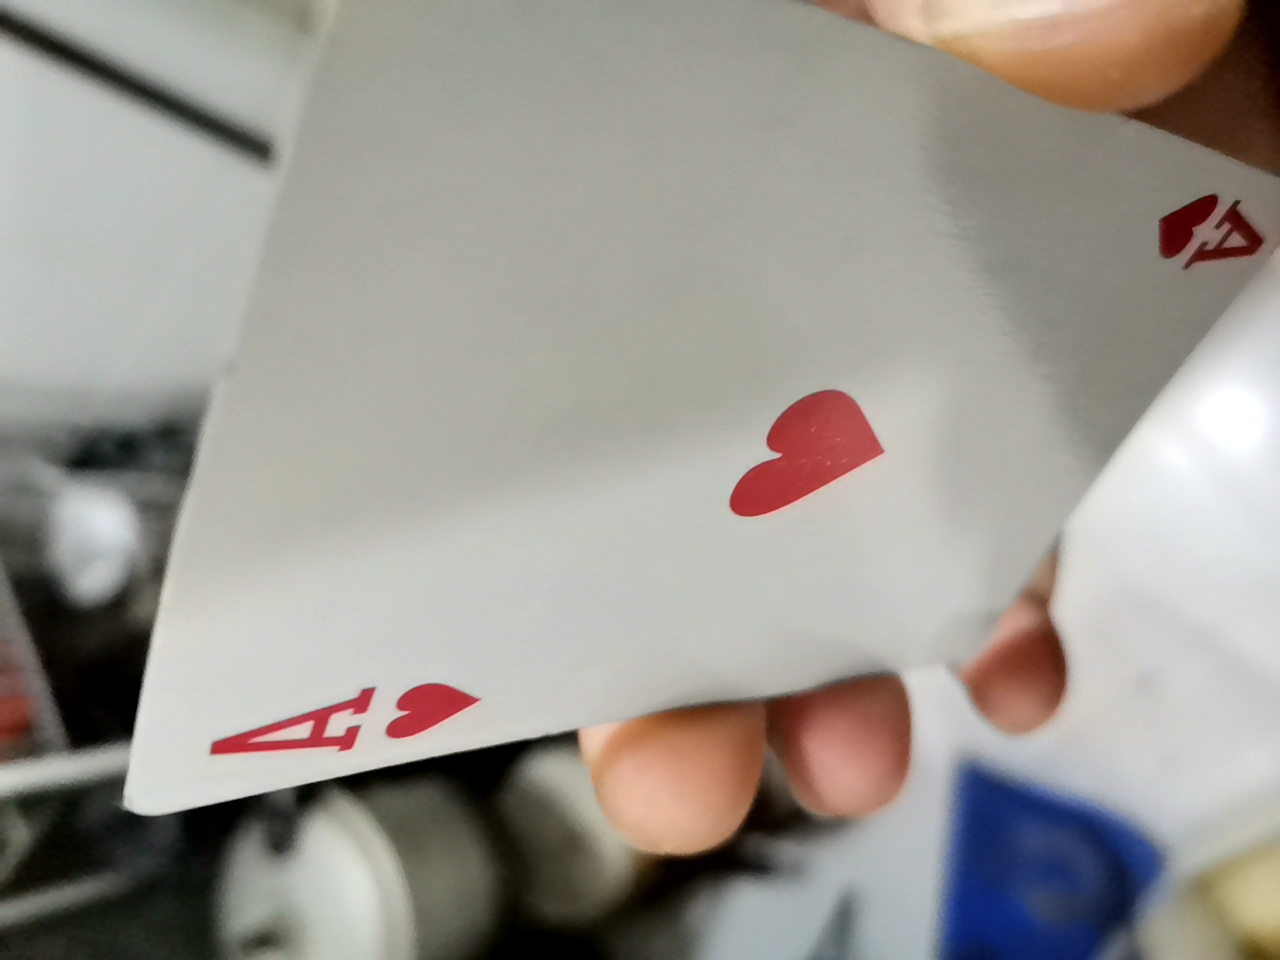hx a: (75, 81, 1095, 838)
